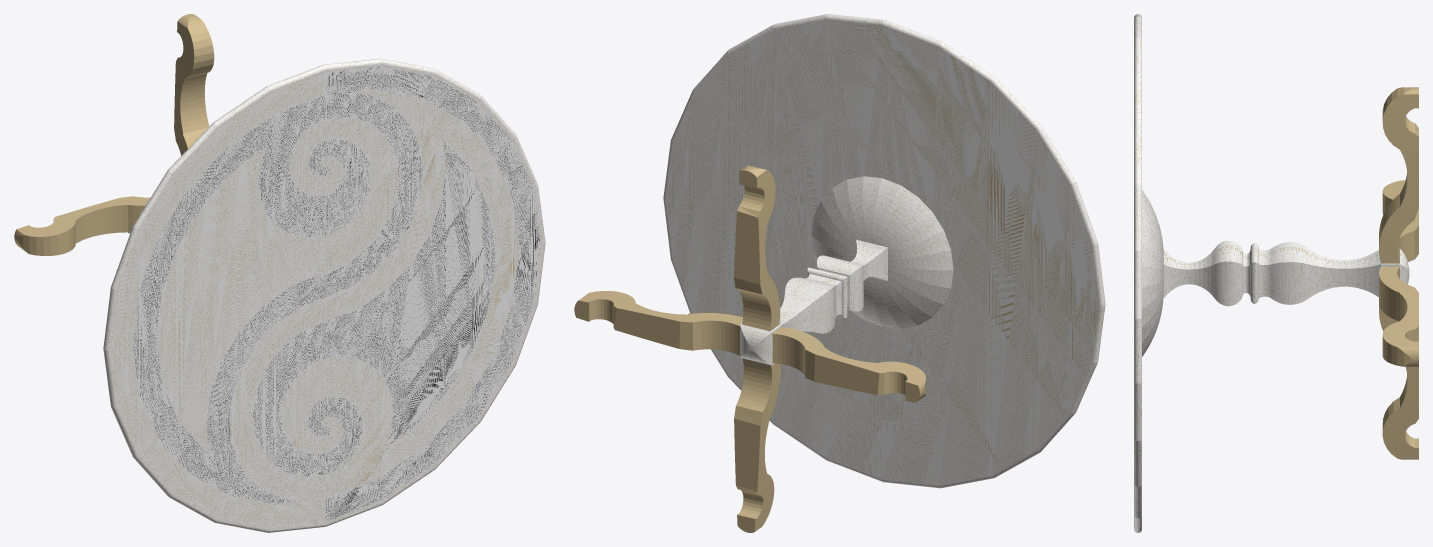
3 views of the same model, side by side, from view 1: azimuth 30°, elevation 25°; view 2: azimuth 150°, elevation 25°; view 3: azimuth 270°, elevation 25° (orthographic). The views are drawn at different scales.
Parts seen in each view (by area): view 1: round table; view 2: round table; view 3: round table.
Part boxes in pixels (x1,y1,x2,y2): round table: (14, 14, 545, 532); round table: (574, 14, 1105, 532); round table: (1134, 14, 1418, 532).
Size of the model in its own units: 54 by 54 by 29.53.
